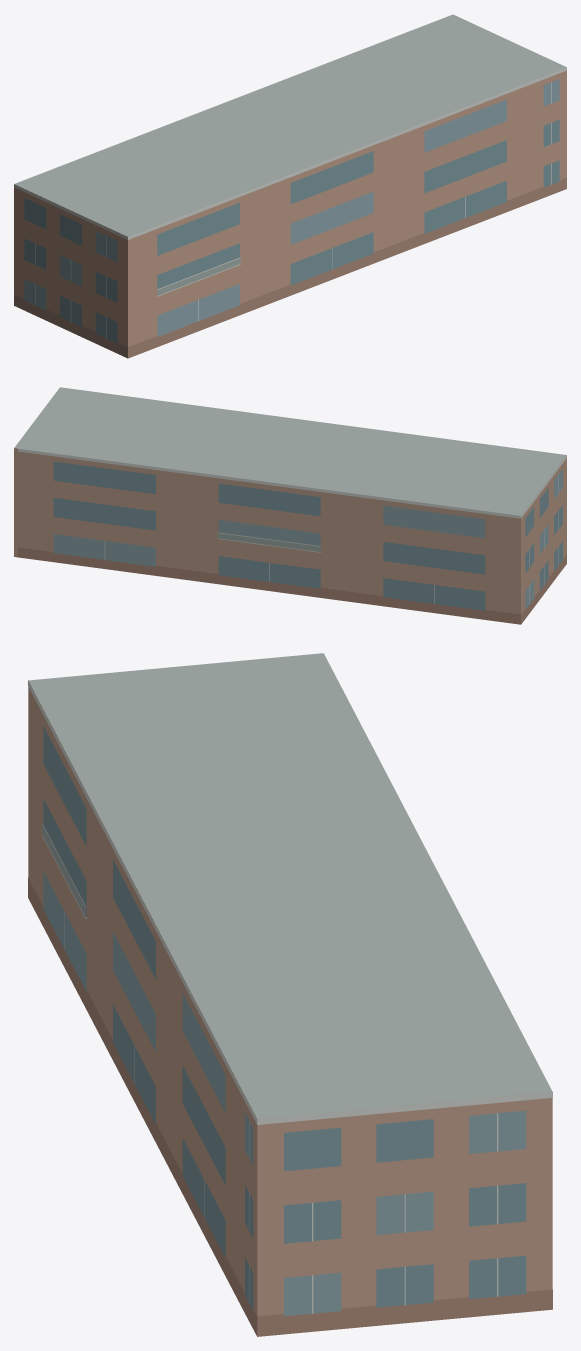
File: survey-upis-32925733.glb
3 views of the same model, one above another, from view 1: azimuth 30°, elevation 25°; view 2: azimuth 150°, elevation 25°; view 3: azimuth 270°, elevation 25° (orthographic). The views are drawn at different scales.
Visible parts, largest first — view 1: survey-upis-32925733.tmp; view 2: survey-upis-32925733.tmp; view 3: survey-upis-32925733.tmp.
Boxes of the visible parts, x1,y1,x2,y2 form: survey-upis-32925733.tmp: [14, 14, 566, 358]; survey-upis-32925733.tmp: [14, 387, 566, 624]; survey-upis-32925733.tmp: [28, 653, 552, 1336].
Bounding box in the file's own units: 42.05 × 9.15 × 20.
